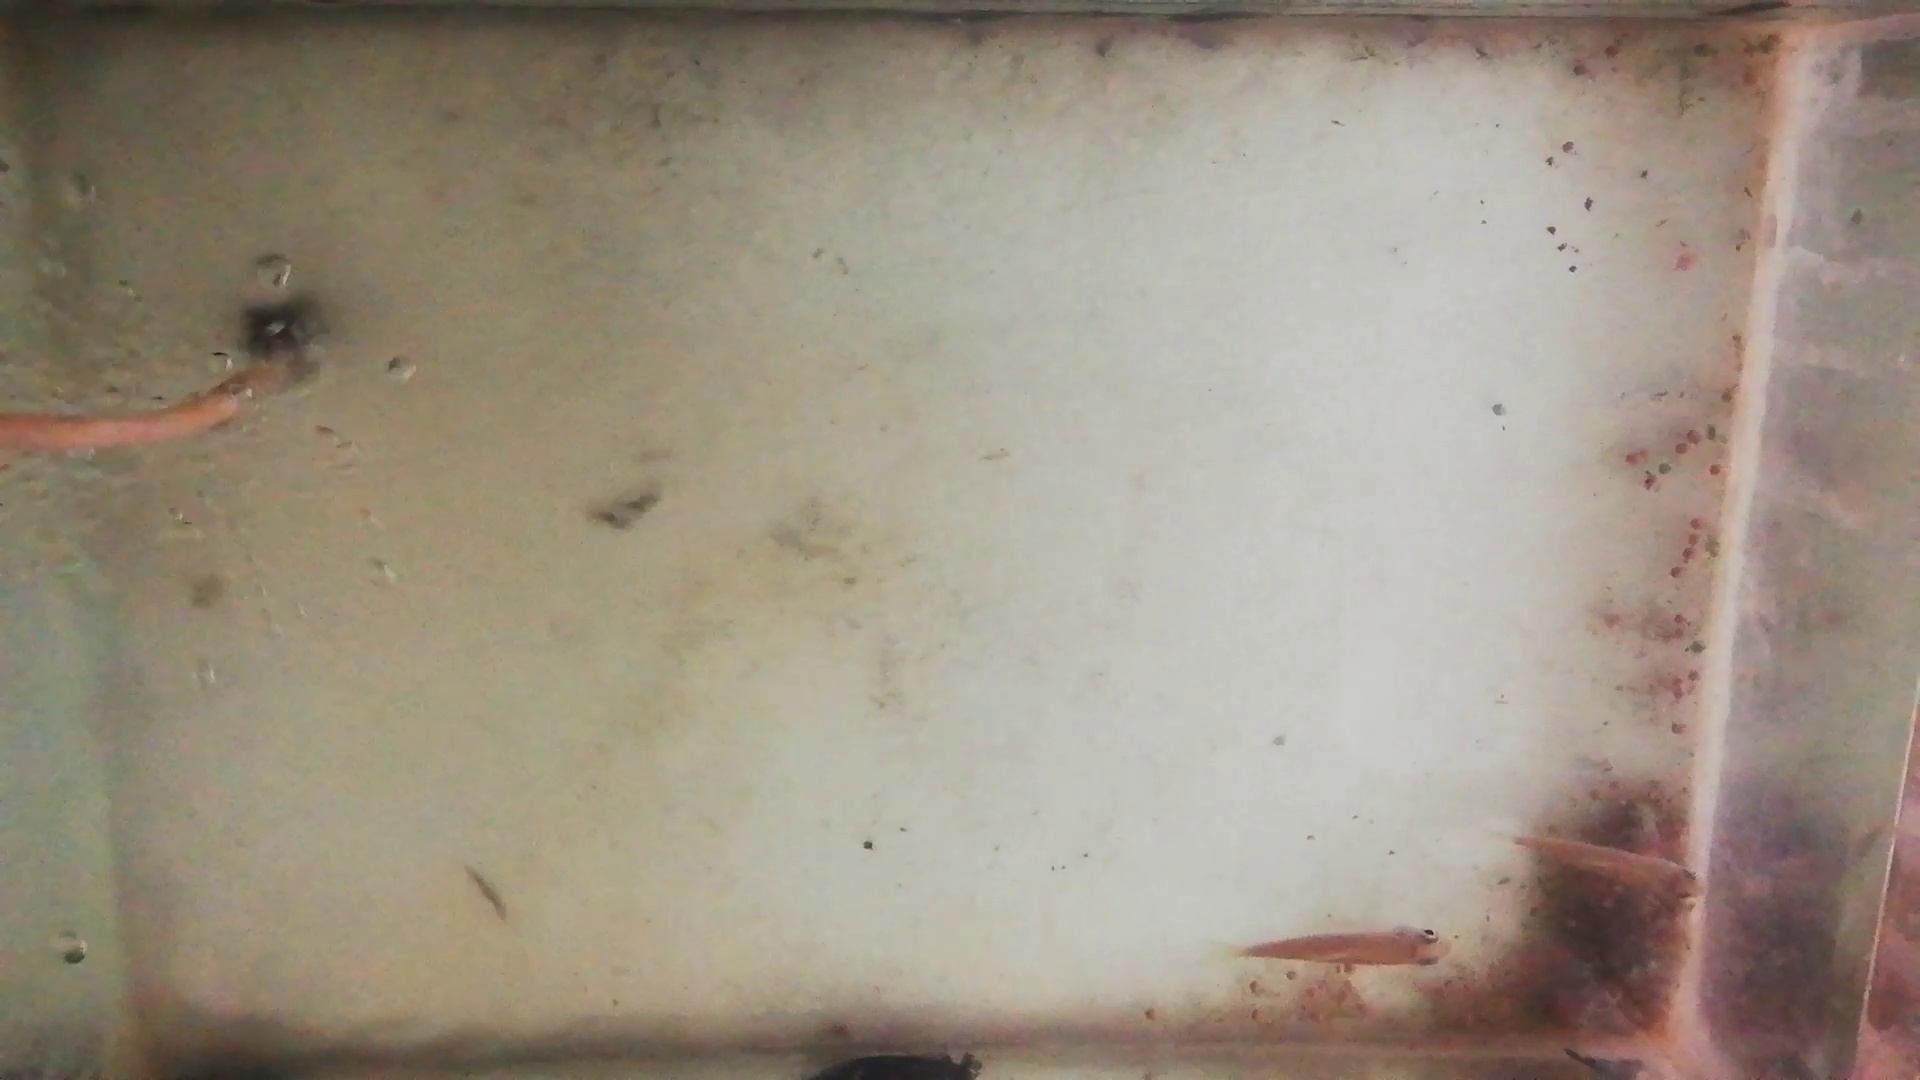fish: (1510, 833, 1701, 895), (1240, 928, 1455, 968)
